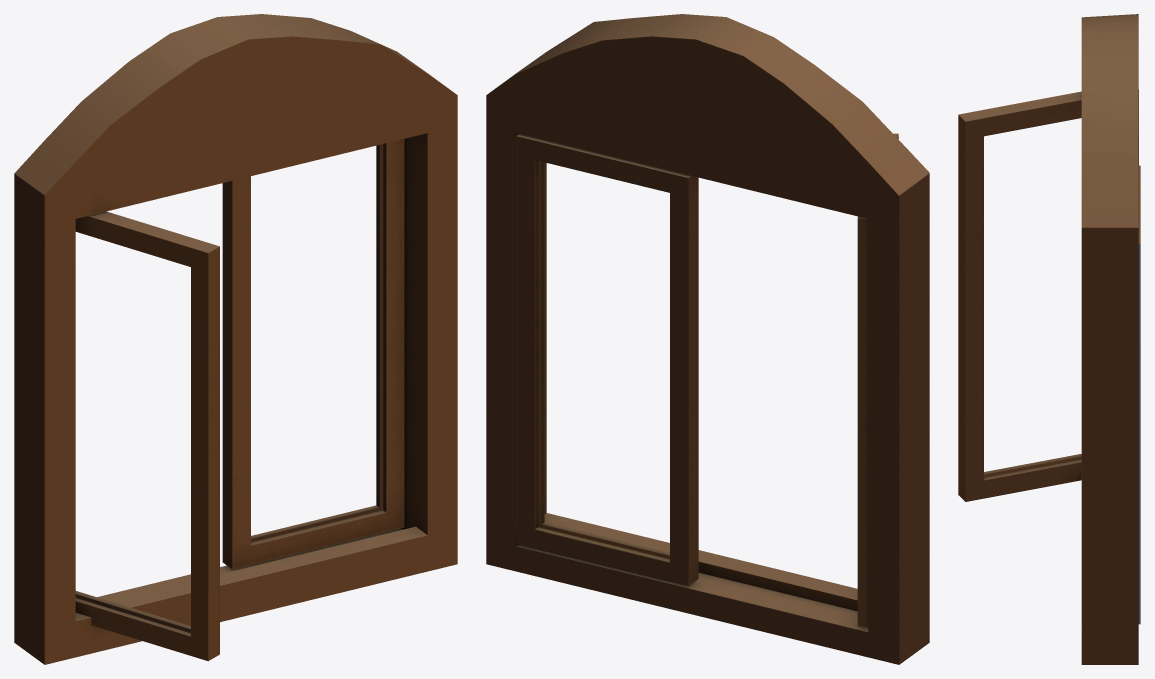
Rendered from WindowFrame.fbx.
3 renders of one model, left to right at view 1: azimuth 30°, elevation 25°; view 2: azimuth 150°, elevation 25°; view 3: azimuth 270°, elevation 25°, orthographic. The views are drawn at different scales.
Parts seen in each view (by area): view 1: polySurface227.001; view 2: polySurface227.001; view 3: polySurface227.001.
Boxes of the visible parts, x1,y1,x2,y2 form: polySurface227.001: (14,14,457,664); polySurface227.001: (486,14,929,664); polySurface227.001: (958,14,1140,664).
Bounding box in the file's own units: 29.02 × 38.67 × 11.92.
Materials: 1 (1 with a texture image).
